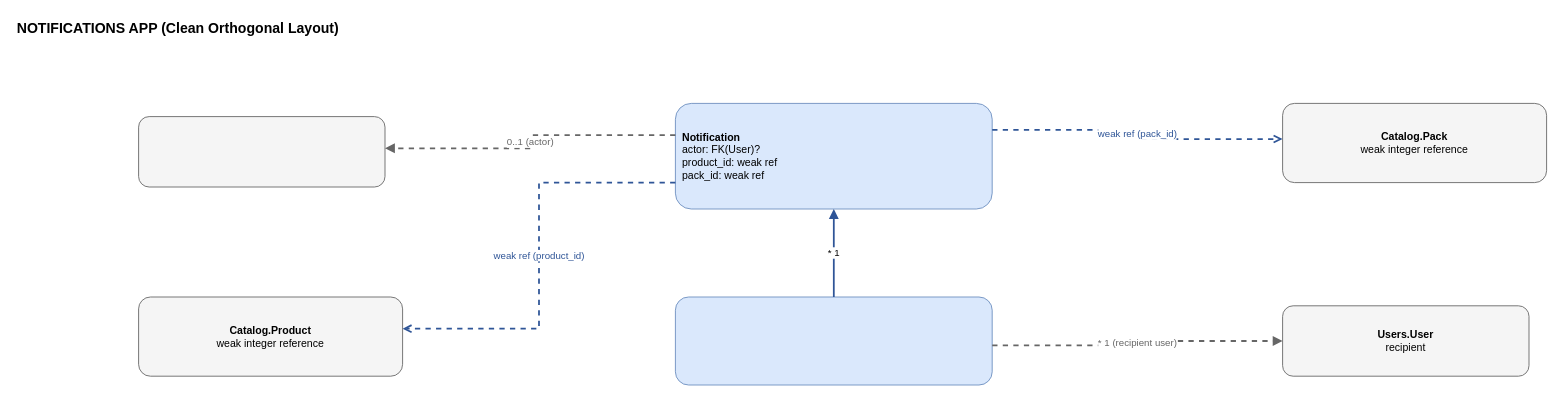
The diagram is 1562 pixels wide and 400 high, and some of its shapes have lost their labels. The centre of each missing label's shape, as x and y in pixels:
"NotificationRecipient notification: FK(Notification) user: FK(User)" belongs at point 833,340.
"Users.User actor" belongs at point 261,151.
